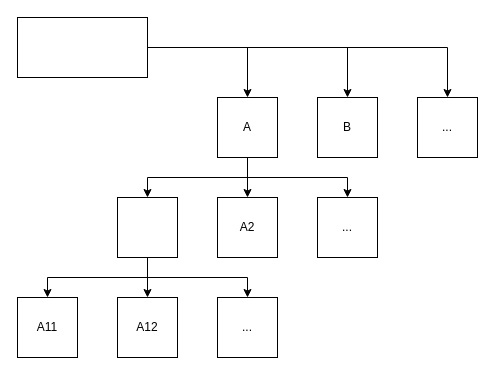
Some shapes in this 495 by 375 pixel diagram are drawn without their labels. The shapes that lost their labels are listed below. From the top down, each one's centre as x and y in pixels, then its label:
(82,47): PeopleService
(147,227): A1
